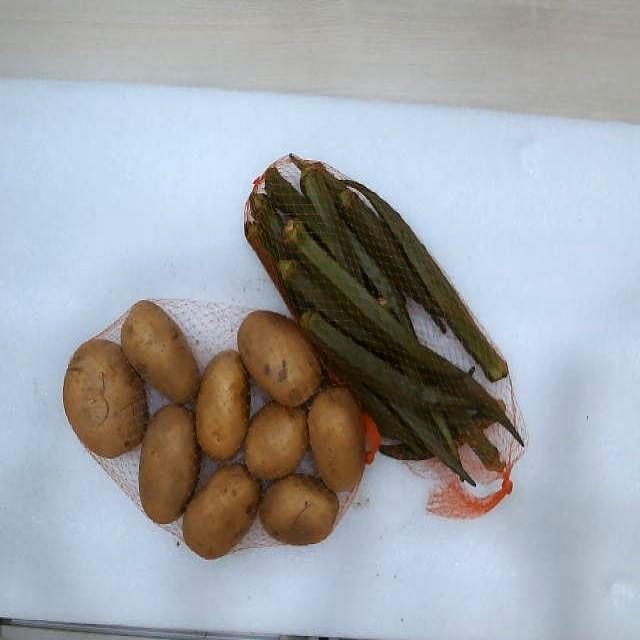potato: (246, 155, 522, 482), (64, 338, 148, 458), (121, 300, 201, 403), (238, 310, 321, 407), (184, 463, 260, 558), (139, 405, 200, 523), (196, 350, 250, 459), (309, 387, 364, 491), (259, 473, 339, 544), (245, 402, 309, 479)
